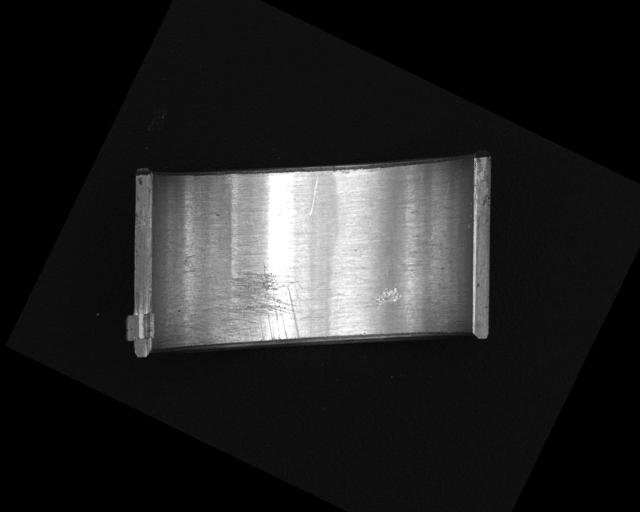bruise: (368, 278, 404, 312)
nick: (300, 175, 328, 216)
scratch: (192, 248, 323, 385)
